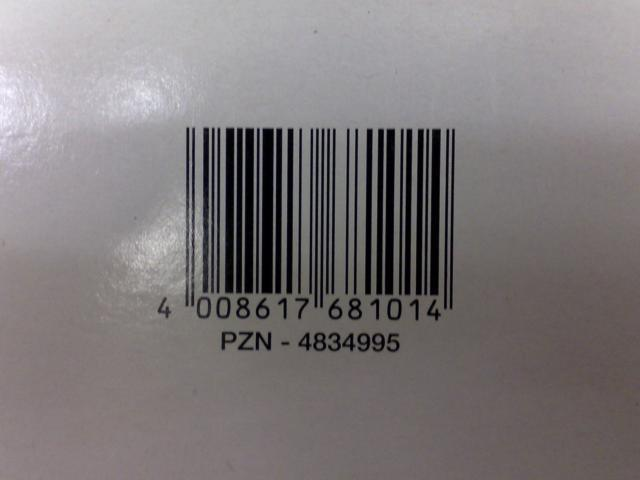Barcode: (146, 116, 484, 328)
